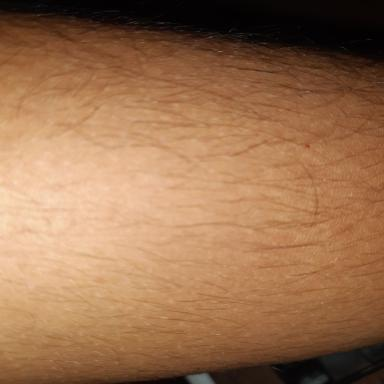normal skin: (1, 13, 382, 384)
